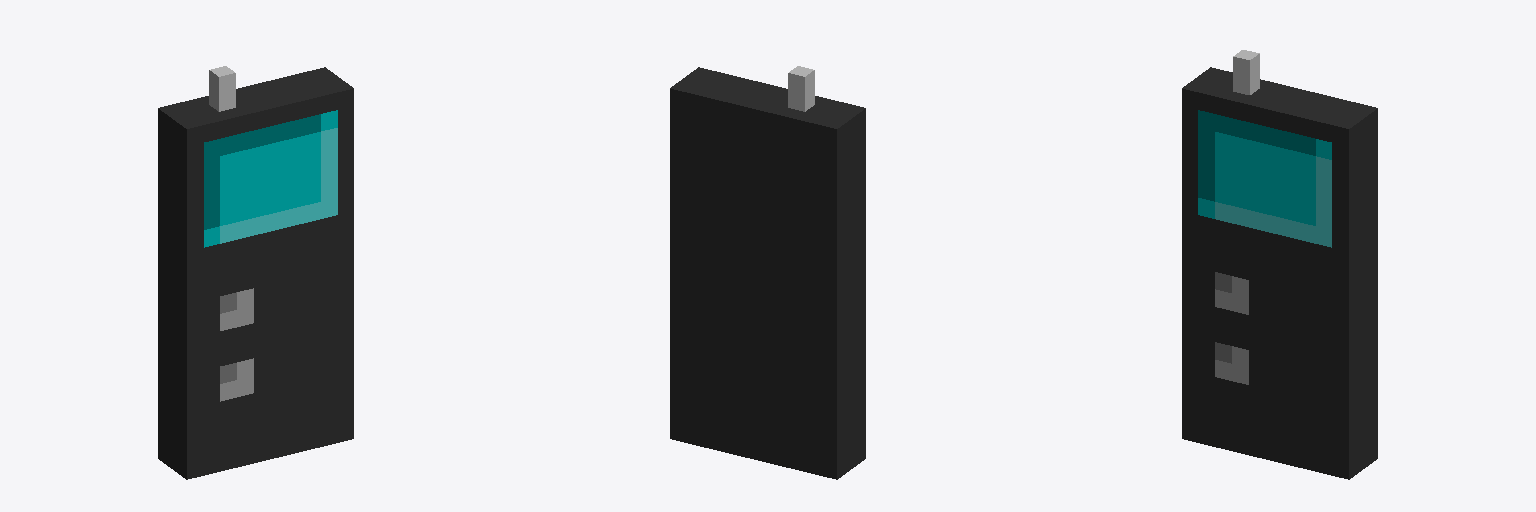
3 views of the same model, side by side, from view 1: azimuth 30°, elevation 25°; view 2: azimuth 150°, elevation 25°; view 3: azimuth 330°, elevation 25° (orthographic).
Parts seen in each view (by area): view 1: Cube; view 2: Cube; view 3: Cube.
Boxes of the visible parts, x1=… form: Cube: x1=158, y1=66, x2=353, y2=479; Cube: x1=670, y1=66, x2=865, y2=479; Cube: x1=1182, y1=50, x2=1377, y2=479.
Bounding box in the file's own units: 10 × 22 × 3.
Materials: 1 (1 with a texture image).